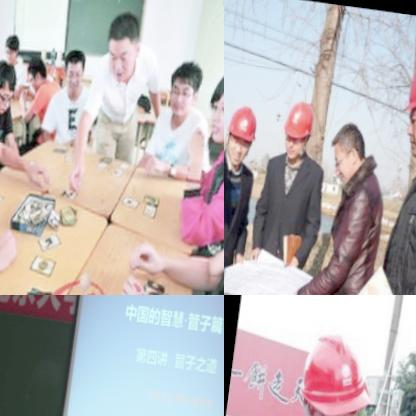head: (99, 7, 144, 80), (164, 53, 201, 118), (203, 55, 224, 157), (57, 40, 87, 93), (21, 50, 49, 91), (0, 53, 16, 116), (2, 29, 21, 63)
helmet: (283, 313, 385, 416), (278, 93, 320, 165), (224, 98, 261, 171), (394, 46, 416, 164)
